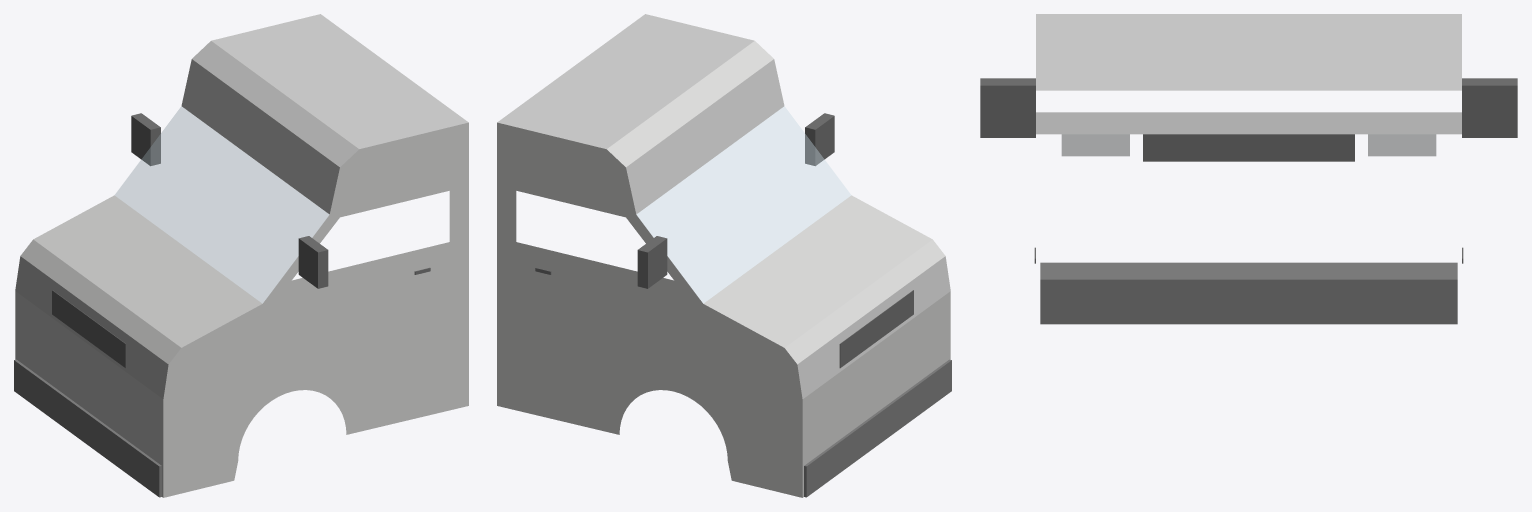
The model's file is v2-real-body-cab.glb.
3 views of the same model, side by side, from view 1: azimuth 30°, elevation 25°; view 2: azimuth 150°, elevation 25°; view 3: azimuth 270°, elevation 25° (orthographic). The views are drawn at different scales.
Size of the model in its own units: 2390 by 2231 by 2512.
